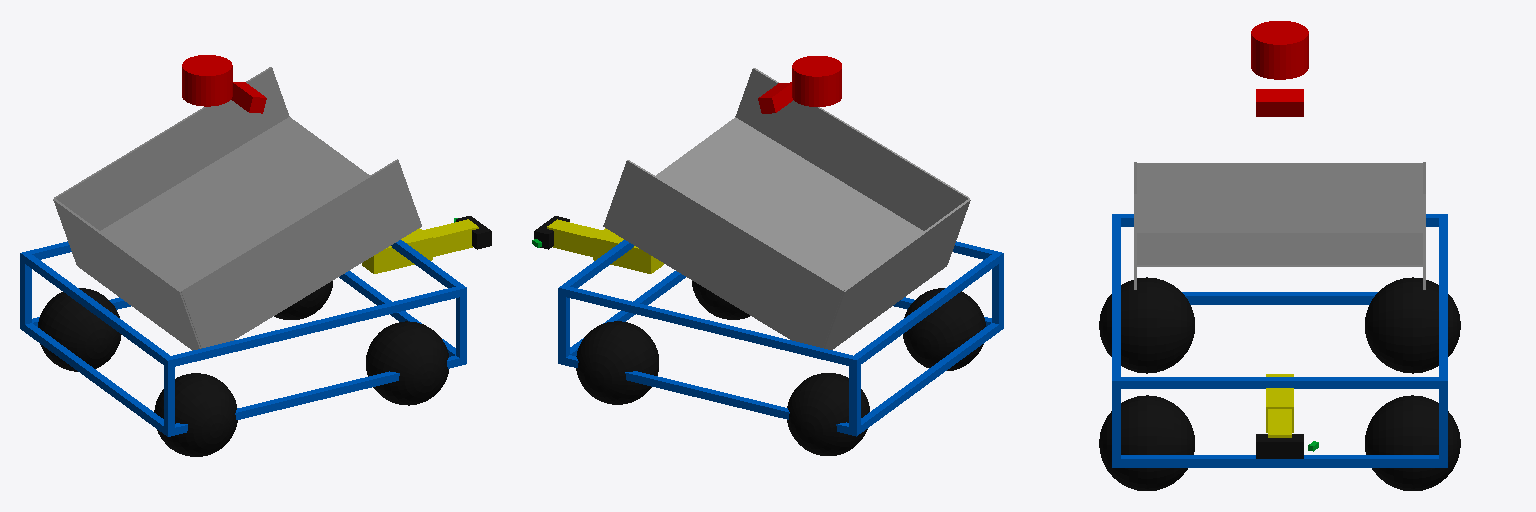
robot.urdf — wildbot:
<?xml version="1.0"?>
<robot name="wildbot">

  <!-- ================= BASE LINK ================= -->
  <!-- Body size: 310x270x110 mm -->
  <link name="car_base">
    <inertial>
      <origin xyz="0 0 0" rpy="0 0 0"/>
      <mass value="0.01"/>
      <inertia ixx="1e-6" ixy="0" ixz="0" iyy="1e-6" iyz="0" izz="1e-6"/>
    </inertial>
  </link>

  <!-- ================= SAFE BOX ================= -->
  <!-- Safe box size: 410x350x100 mm -->
  <link name="safe_box">
    <inertial>
      <origin xyz="0 0 0" rpy="0 0 0"/>
      <mass value="7.80"/>
      <inertia ixx="0.060" ixy="0" ixz="0" iyy="0.080" iyz="0" izz="0.100"/>
    </inertial>
    <visual>
      <origin xyz="0 0.170 0.045" rpy="0 0 0"/>
      <geometry>
        <box size="0.410 0.010 0.010"/>
      </geometry>
      <material name="blue">
        <color rgba="0.0 0.4 0.8 1.0"/>
      </material>
    </visual>
    <visual>
      <origin xyz="0 -0.170 0.045" rpy="0 0 0"/>
      <geometry>
        <box size="0.410 0.010 0.010"/>
      </geometry>
      <material name="blue"/>
    </visual>
    <visual>
      <origin xyz="0 0.170 -0.045" rpy="0 0 0"/>
      <geometry>
        <box size="0.410 0.010 0.010"/>
      </geometry>
      <material name="blue"/>
    </visual>
    <visual>
      <origin xyz="0 -0.170 -0.045" rpy="0 0 0"/>
      <geometry>
        <box size="0.410 0.010 0.010"/>
      </geometry>
      <material name="blue"/>
    </visual>
    <visual>
      <origin xyz="0.200 0 0.045" rpy="0 0 0"/>
      <geometry>
        <box size="0.010 0.350 0.010"/>
      </geometry>
      <material name="blue"/>
    </visual>
    <visual>
      <origin xyz="-0.200 0 0.045" rpy="0 0 0"/>
      <geometry>
        <box size="0.010 0.350 0.010"/>
      </geometry>
      <material name="blue"/>
    </visual>
    <visual>
      <origin xyz="0.200 0 -0.045" rpy="0 0 0"/>
      <geometry>
        <box size="0.010 0.350 0.010"/>
      </geometry>
      <material name="blue"/>
    </visual>
    <visual>
      <origin xyz="-0.200 0 -0.045" rpy="0 0 0"/>
      <geometry>
        <box size="0.010 0.350 0.010"/>
      </geometry>
      <material name="blue"/>
    </visual>
    <visual>
      <origin xyz="0.200 0.170 0" rpy="0 0 0"/>
      <geometry>
        <box size="0.010 0.010 0.100"/>
      </geometry>
      <material name="blue"/>
    </visual>
    <visual>
      <origin xyz="0.200 -0.170 0" rpy="0 0 0"/>
      <geometry>
        <box size="0.010 0.010 0.100"/>
      </geometry>
      <material name="blue"/>
    </visual>
    <visual>
      <origin xyz="-0.200 0.170 0" rpy="0 0 0"/>
      <geometry>
        <box size="0.010 0.010 0.100"/>
      </geometry>
      <material name="blue"/>
    </visual>
    <visual>
      <origin xyz="-0.200 -0.170 0" rpy="0 0 0"/>
      <geometry>
        <box size="0.010 0.010 0.100"/>
      </geometry>
      <material name="blue"/>
    </visual>
    <visual>
      <origin xyz="0 0 0.104" rpy="0 -0.3316 0"/>
      <geometry>
        <box size="0.315 0.300 0.003"/>
      </geometry>
      <material name="gray">
        <color rgba="0.6 0.6 0.6 1.0"/>
      </material>
    </visual>
    <!-- Rear wall (plane -X edge) -->
    <visual>
      <origin xyz="-0.157 0 0.076" rpy="0 -0.3316 0"/>
      <geometry>
        <box size="0.003 0.300 0.100"/>
      </geometry>
      <material name="gray"/>
    </visual>
    <!-- Left wall (plane +Y edge) -->
    <visual>
      <origin xyz="-0.008 0.150 0.128" rpy="0 -0.3316 0"/>
      <geometry>
        <box size="0.315 0.003 0.100"/>
      </geometry>
      <material name="gray"/>
    </visual>
    <!-- Right wall (plane -Y edge) -->
    <visual>
      <origin xyz="-0.008 -0.150 0.128" rpy="0 -0.3316 0"/>
      <geometry>
        <box size="0.315 0.003 0.100"/>
      </geometry>
      <material name="gray"/>
    </visual>
    <collision>
      <origin xyz="0 0 0" rpy="0 0 0"/>
      <geometry>
        <box size="0.410 0.350 0.100"/>
      </geometry>
    </collision>
    <collision>
      <origin xyz="0 0 0.104" rpy="0 -0.3316 0"/>
      <geometry>
        <box size="0.315 0.300 0.003"/>
      </geometry>
    </collision>
    <!-- Rear wall collision -->
    <collision>
      <origin xyz="-0.157 0 0.076" rpy="0 -0.3316 0"/>
      <geometry>
        <box size="0.003 0.300 0.100"/>
      </geometry>
    </collision>
    <!-- Left wall collision -->
    <collision>
      <origin xyz="-0.008 0.150 0.128" rpy="0 -0.3316 0"/>
      <geometry>
        <box size="0.315 0.003 0.100"/>
      </geometry>
    </collision>
    <!-- Right wall collision -->
    <collision>
      <origin xyz="-0.008 -0.150 0.128" rpy="0 -0.3316 0"/>
      <geometry>
        <box size="0.315 0.003 0.100"/>
      </geometry>
    </collision>
  </link>

  <joint name="car_base_to_safe_box" type="fixed">
    <parent link="car_base"/>
    <child link="safe_box"/>
    <!-- Position: 210, 175, 100 -->
    <origin xyz="0.0 0.0 0.100" rpy="0 0 0"/>
  </joint>

  <!-- ================= WHEELS ================= -->
  <!-- Wheel radius: 50mm, thickness: 46mm -->
  <material name="black">
    <color rgba="0.1 0.1 0.1 1.0"/>
  </material>

  <!-- Front Left Wheel -->
  <link name="fl_wheel">
    <inertial>
      <origin xyz="0 0 0" rpy="0 0 0"/>
      <mass value="0.45"/>
      <inertia ixx="0.00036" ixy="0" ixz="0" iyy="0.00056" iyz="0" izz="0.00036"/>
    </inertial>
    <visual>
      <origin xyz="0 0 0" rpy="1.5708 0 0"/>
      <geometry>
        <sphere radius="0.050"/>
      </geometry>
      <material name="black"/>
    </visual>
    <collision>
      <origin xyz="0 0 0" rpy="1.5708 0 0"/>
      <geometry>
        <sphere radius="0.050"/>
      </geometry>
    </collision>
  </link>

  <joint name="safe_box_to_fl_wheel" type="continuous">
    <parent link="safe_box"/>
    <child link="fl_wheel"/>
    <!-- Position: 145, 138, -50 -->
    <origin xyz="0.145 0.138 -0.050" rpy="0 0 0"/>
    <axis xyz="0 1 0"/>
  </joint>

  <!-- Front Right Wheel -->
  <link name="fr_wheel">
    <inertial>
      <origin xyz="0 0 0" rpy="0 0 0"/>
      <mass value="0.45"/>
      <inertia ixx="0.00036" ixy="0" ixz="0" iyy="0.00056" iyz="0" izz="0.00036"/>
    </inertial>
    <visual>
      <origin xyz="0 0 0" rpy="1.5708 0 0"/>
      <geometry>
        <sphere radius="0.050"/>
      </geometry>
      <material name="black"/>
    </visual>
    <collision>
      <origin xyz="0 0 0" rpy="1.5708 0 0"/>
      <geometry>
        <sphere radius="0.050"/>
      </geometry>
    </collision>
  </link>

  <joint name="safe_box_to_fr_wheel" type="continuous">
    <parent link="safe_box"/>
    <child link="fr_wheel"/>
    <!-- Position: 145, -138, -50 -->
    <origin xyz="0.145 -0.138 -0.050" rpy="0 0 0"/>
    <axis xyz="0 1 0"/>
  </joint>

  <!-- Rear Left Wheel -->
  <link name="rl_wheel">
    <inertial>
      <origin xyz="0 0 0" rpy="0 0 0"/>
      <mass value="0.45"/>
      <inertia ixx="0.00036" ixy="0" ixz="0" iyy="0.00056" iyz="0" izz="0.00036"/>
    </inertial>
    <visual>
      <origin xyz="0 0 0" rpy="1.5708 0 0"/>
      <geometry>
        <sphere radius="0.050"/>
      </geometry>
      <material name="black"/>
    </visual>
    <collision>
      <origin xyz="0 0 0" rpy="1.5708 0 0"/>
      <geometry>
        <sphere radius="0.050"/>
      </geometry>
    </collision>
  </link>

  <joint name="safe_box_to_rl_wheel" type="continuous">
    <parent link="safe_box"/>
    <child link="rl_wheel"/>
    <!-- Position: -145, 138, -50 -->
    <origin xyz="-0.145 0.138 -0.050" rpy="0 0 0"/>
    <axis xyz="0 1 0"/>
  </joint>

  <!-- Rear Right Wheel -->
  <link name="rr_wheel">
    <inertial>
      <origin xyz="0 0 0" rpy="0 0 0"/>
      <mass value="0.45"/>
      <inertia ixx="0.00036" ixy="0" ixz="0" iyy="0.00056" iyz="0" izz="0.00036"/>
    </inertial>
    <visual>
      <origin xyz="0 0 0" rpy="1.5708 0 0"/>
      <geometry>
        <sphere radius="0.050"/>
      </geometry>
      <material name="black"/>
    </visual>
    <collision>
      <origin xyz="0 0 0" rpy="1.5708 0 0"/>
      <geometry>
        <sphere radius="0.050"/>
      </geometry>
    </collision>
  </link>

  <joint name="safe_box_to_rr_wheel" type="continuous">
    <parent link="safe_box"/>
    <child link="rr_wheel"/>
    <!-- Position: -145, -138, -50 -->
    <origin xyz="-0.145 -0.138 -0.050" rpy="0 0 0"/>
    <axis xyz="0 1 0"/>
  </joint>

  <!-- ================= SENSORS ================= -->
  <!-- Camera -->
  <link name="camera">
    <inertial>
      <origin xyz="0 0 0" rpy="0 0 0"/>
      <mass value="0.02"/>
      <inertia ixx="1.9e-5" ixy="0" ixz="0" iyy="5e-6" iyz="0" izz="1.9e-5"/>
    </inertial>
    <visual>
      <geometry>
        <box size="0.02 0.05 0.02"/>
      </geometry>
      <material name="red">
        <color rgba="0.8 0.0 0.0 1.0"/>
      </material>
    </visual>
    <collision>
      <geometry>
        <box size="0.02 0.05 0.02"/>
      </geometry>
    </collision>
  </link>

  <link name="camera_link">
    <inertial>
      <origin xyz="0 0 0" rpy="0 0 0"/>
      <mass value="0.005"/>
      <inertia ixx="1e-6" ixy="0" ixz="0" iyy="1e-6" iyz="0" izz="1e-6"/>
    </inertial>
    <visual>
      <origin xyz="0 0 0" rpy="0 0 0"/>
      <geometry>
        <box size="0.01 0.01 0.01"/>
      </geometry>
      <material name="gray"/>
    </visual>
  </link>

  <joint name="safe_box_to_camera_link" type="fixed">
    <parent link="safe_box"/>
    <child link="camera_link"/>
    <!-- Position: 105, 0, 155 -->
    <origin xyz="0.005 0.0 0.275" rpy="0 0.28 0"/>
  </joint>

  <joint name="camera_link_to_camera" type="fixed">
    <parent link="camera_link"/>
    <child link="camera"/>
    <origin xyz="0 0 0" rpy="0 0 0"/>
  </joint>

  <!-- Lidar -->
  <link name="lidar">
    <inertial>
      <origin xyz="0 0 0" rpy="0 0 0"/>
      <mass value="0.02"/>
      <inertia ixx="2.2e-5" ixy="0" ixz="0" iyy="2.2e-5" iyz="0" izz="5.4e-5"/>
    </inertial>
    <visual>
      <geometry>
        <cylinder radius="0.03" length="0.04"/>
      </geometry>
      <material name="red"/>
    </visual>
    <collision>
      <geometry>
        <cylinder radius="0.03" length="0.04"/>
      </geometry>
    </collision>
  </link>

  <joint name="safe_box_to_lidar" type="fixed">
    <parent link="safe_box"/>
    <child link="lidar"/>
    <!-- Position: 50, 0, 190 -->
    <origin xyz="-0.050 0.0 0.310" rpy="0 0 0"/>
  </joint>

  <!-- ================= ARM & GRIPPER ================= -->
  <!-- Arm Link 1 (Length: 80mm) -->
  <link name="arm1_link">
    <inertial>
      <origin xyz="0.040 0 0" rpy="0 0 0"/>
      <mass value="0.06"/>
      <inertia ixx="8e-6" ixy="0" ixz="0" iyy="4.9e-5" iyz="0" izz="4.9e-5"/>
    </inertial>
    <visual>
      <origin xyz="0.040 0 0" rpy="0 0 0"/>
      <geometry>
        <box size="0.080 0.03 0.03"/>
      </geometry>
      <material name="yellow">
        <color rgba="0.8 0.8 0.0 1.0"/>
      </material>
    </visual>
    <collision>
      <origin xyz="0.040 0 0" rpy="0 0 0"/>
      <geometry>
        <box size="0.080 0.03 0.03"/>
      </geometry>
    </collision>
  </link>

  <joint name="safe_box_to_arm1_joint" type="revolute">
    <parent link="safe_box"/>
    <child link="arm1_link"/>
    <!-- Position: 170, 0, 26 -->
    <origin xyz="0.170 0.0 0.026" rpy="0 0 0"/>
    <axis xyz="0 1 0"/>
    <limit lower="-1.5708" upper="1.5708" effort="10.0" velocity="1.0"/>
  </joint>

  <!-- Arm Link 2 (Length: 65mm) -->
  <link name="arm2_link">
    <inertial>
      <origin xyz="0.0325 0 0" rpy="0 0 0"/>
      <mass value="0.06"/>
      <inertia ixx="4.7e-6" ixy="0" ixz="0" iyy="2.4e-5" iyz="0" izz="2.4e-5"/>
    </inertial>
    <visual>
      <origin xyz="0.0325 0 0" rpy="0 0 0"/>
      <geometry>
        <box size="0.065 0.025 0.025"/>
      </geometry>
      <material name="yellow"/>
    </visual>
    <collision>
      <origin xyz="0.0325 0 0" rpy="0 0 0"/>
      <geometry>
        <box size="0.065 0.025 0.025"/>
      </geometry>
    </collision>
  </link>

  <joint name="arm1_to_arm2_joint" type="revolute">
    <parent link="arm1_link"/>
    <child link="arm2_link"/>
    <!-- Position: 80, 0, 0 -->
    <origin xyz="0.080 0.0 0.0" rpy="0 0 0"/>
    <axis xyz="0 1 0"/>
    <limit lower="-1.5708" upper="1.5708" effort="10.0" velocity="1.0"/>
  </joint>

  <!-- Finger Base -->
  <link name="finger_base">
    <inertial>
      <origin xyz="0 0 0" rpy="0 0 0"/>
      <mass value="0.03"/>
      <inertia ixx="7.3e-6" ixy="0" ixz="0" iyy="2.0e-6" iyz="0" izz="7.3e-6"/>
    </inertial>
    <visual>
      <geometry>
        <box size="0.02 0.05 0.02"/>
      </geometry>
      <material name="black"/>
    </visual>
    <collision>
      <geometry>
        <box size="0.02 0.05 0.02"/>
      </geometry>
    </collision>
  </link>

  <joint name="arm2_to_finger" type="fixed">
    <parent link="arm2_link"/>
    <child link="finger_base"/>
    <!-- Position: 65, 0, 0 -->
    <origin xyz="0.065 0.0 0.0" rpy="0 0 0"/>
  </joint>

  <!-- IR Distance Sensor (mounted on left side of finger base) -->
  <link name="ir_side_sensor">
    <inertial>
      <origin xyz="0 0 0" rpy="0 0 0"/>
      <mass value="0.005"/>
      <inertia ixx="5.0e-7" ixy="0" ixz="0" iyy="5.0e-7" iyz="0" izz="5.0e-7"/>
    </inertial>
    <visual>
      <geometry>
        <box size="0.012 0.006 0.006"/>
      </geometry>
      <material name="green">
        <color rgba="0.0 0.7 0.2 1.0"/>
      </material>
    </visual>
    <collision>
      <geometry>
        <box size="0.012 0.006 0.006"/>
      </geometry>
    </collision>
  </link>

  <joint name="finger_base_to_ir_side_sensor" type="fixed">
    <parent link="finger_base"/>
    <child link="ir_side_sensor"/>
    <!-- Position: 0, +28, 0 (just outside finger_base side), facing +Y -->
    <origin xyz="0.0 0.035 0.0" rpy="0 0 -0.5"/>
  </joint>

  <!-- Finger Left (Height: 65mm) -->
  <link name="finger_left">
    <inertial>
      <origin xyz="0 0 -0.0325" rpy="0 0 0"/>
      <mass value="0.01"/>
      <inertia ixx="1.0e-6" ixy="0" ixz="0" iyy="1.0e-6" iyz="0" izz="1.0e-6"/>
    </inertial>
    <visual>
      <origin xyz="0 0 -0.0325" rpy="1.5708 0 1.5708"/>
      <geometry>
        <mesh filename="mesh/finger_left.stl" scale="0.001 0.001 0.001"/>
      </geometry>
      <material name="gray"/>
    </visual>
    <collision>
      <origin xyz="0 0 -0.0325" rpy="1.5708 0 1.5708"/>
      <geometry>
        <mesh filename="mesh/finger_left.stl" scale="0.001 0.001 0.001"/>
      </geometry>
    </collision>
  </link>

  <joint name="finger_base_to_finger_left" type="revolute">
    <parent link="finger_base"/>
    <child link="finger_left"/>
    <!-- Position: 0, 14, 0 (Finger Dis is 28, so +/- 14) -->
    <origin xyz="0.0 0.014 0.0" rpy="0 0 0"/>
    <axis xyz="0 0 1"/>
    <limit lower="-0.7854" upper="0.7854" effort="2.0" velocity="1.0"/>
  </joint>

  <!-- Finger Right (Height: 65mm) -->
  <link name="finger_right">
    <inertial>
      <origin xyz="0 0 -0.0325" rpy="0 0 0"/>
      <mass value="0.01"/>
      <inertia ixx="1.0e-6" ixy="0" ixz="0" iyy="1.0e-6" iyz="0" izz="1.0e-6"/>
    </inertial>
    <visual>
      <origin xyz="0 0 -0.0325" rpy="1.5708 0 1.5708"/>
      <geometry>
        <mesh filename="mesh/finger_right.stl" scale="0.001 0.001 0.001"/>
      </geometry>
      <material name="gray"/>
    </visual>
    <collision>
      <origin xyz="0 0 -0.0325" rpy="1.5708 0 1.5708"/>
      <geometry>
        <mesh filename="mesh/finger_right.stl" scale="0.001 0.001 0.001"/>
      </geometry>
    </collision>
  </link>

  <joint name="finger_base_to_finger_right" type="revolute">
    <parent link="finger_base"/>
    <child link="finger_right"/>
    <!-- Position: 0, -14, 0 -->
    <origin xyz="0.0 -0.014 0.0" rpy="0 0 0"/>
    <axis xyz="0 0 1"/>
    <limit lower="-0.7854" upper="0.7854" effort="2.0" velocity="1.0"/>
  </joint>

</robot>

--- Render facts (derived) ---
Views: 3 orthographic renders of the robot side by side, from view 1: azimuth 30°, elevation 25°; view 2: azimuth 150°, elevation 25°; view 3: azimuth 270°, elevation 25°.
Model wildbot with 15 links and 14 joints (4 revolute, 4 continuous, 6 fixed), rooted at car_base, posed all joints at 0.
Visible links, largest first — view 1: safe_box, fr_wheel, rr_wheel, rl_wheel, lidar, arm1_link, arm2_link, fl_wheel, camera; view 2: safe_box, fl_wheel, rl_wheel, rr_wheel, lidar, arm1_link, arm2_link, fr_wheel, camera; view 3: safe_box, rl_wheel, rr_wheel, fl_wheel, fr_wheel, lidar, camera, finger_base, arm1_link, arm2_link.
Link boxes in pixels (x1,y1,x2,y2): safe_box: (20, 67, 466, 436); fr_wheel: (366, 321, 448, 405); rr_wheel: (154, 373, 237, 456); rl_wheel: (38, 288, 121, 371); lidar: (182, 55, 232, 106); arm1_link: (362, 228, 432, 273); arm2_link: (423, 219, 478, 256); fl_wheel: (274, 281, 332, 319); camera: (231, 82, 266, 113); safe_box: (558, 68, 1003, 436); fl_wheel: (576, 321, 658, 404); rl_wheel: (787, 373, 869, 455); rr_wheel: (903, 288, 985, 370); lidar: (792, 56, 841, 106); arm1_link: (593, 228, 663, 273); arm2_link: (547, 219, 601, 256); fr_wheel: (692, 281, 749, 319); camera: (758, 82, 792, 113); safe_box: (1112, 162, 1447, 467); rl_wheel: (1365, 277, 1460, 373); rr_wheel: (1099, 277, 1194, 373); fl_wheel: (1365, 395, 1460, 490); fr_wheel: (1099, 395, 1194, 490); lidar: (1251, 21, 1308, 79); camera: (1256, 89, 1303, 116); finger_base: (1256, 434, 1303, 458); arm1_link: (1266, 374, 1293, 432); arm2_link: (1268, 409, 1291, 437).
Bounding box of the posed robot: 0.53 × 0.376 × 0.43 m (x, y, z).
0 mesh visuals loaded from 2 distinct referenced files (none loaded); not drawn: 2 (reference not matched to a file when rendering).
